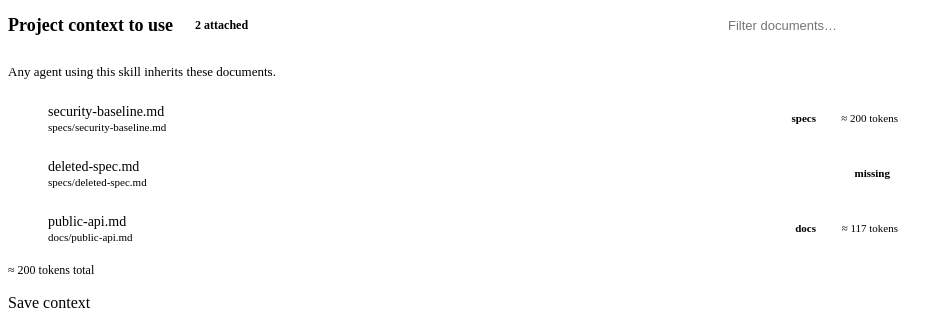
Test: ContextTab › filtering hides non-matching rows without losing attached state
The image size is (935, 325).
In the field with placeholder "Filter documents…": (822, 25) [726,17,918,34], type "public-api"
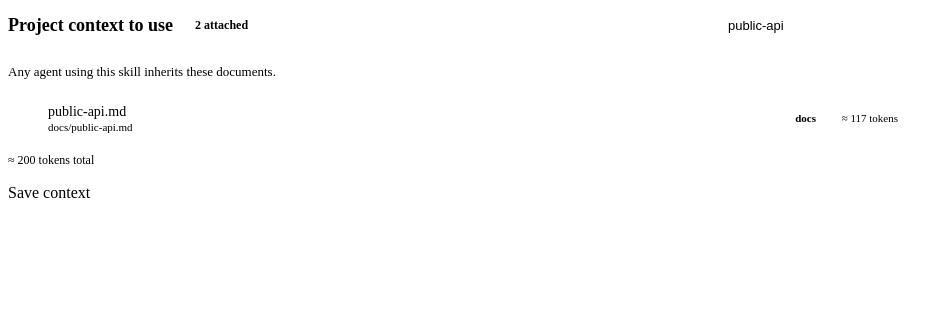
Expected: the text "public-api.md" is shown, [48,104,126,119]
Result: the text "security-baseline.md" is gone
